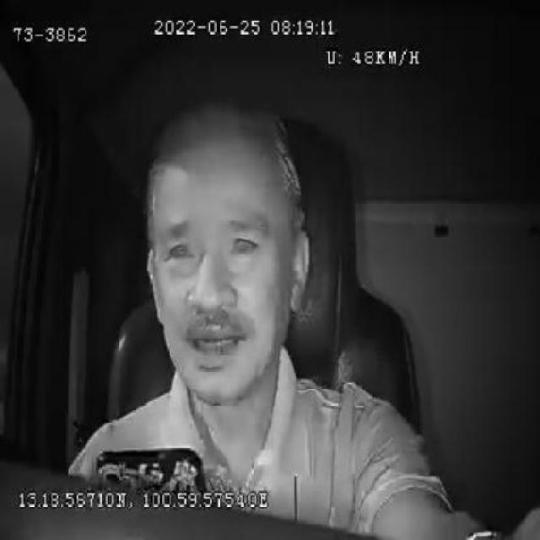phone: (96, 443, 208, 490)
